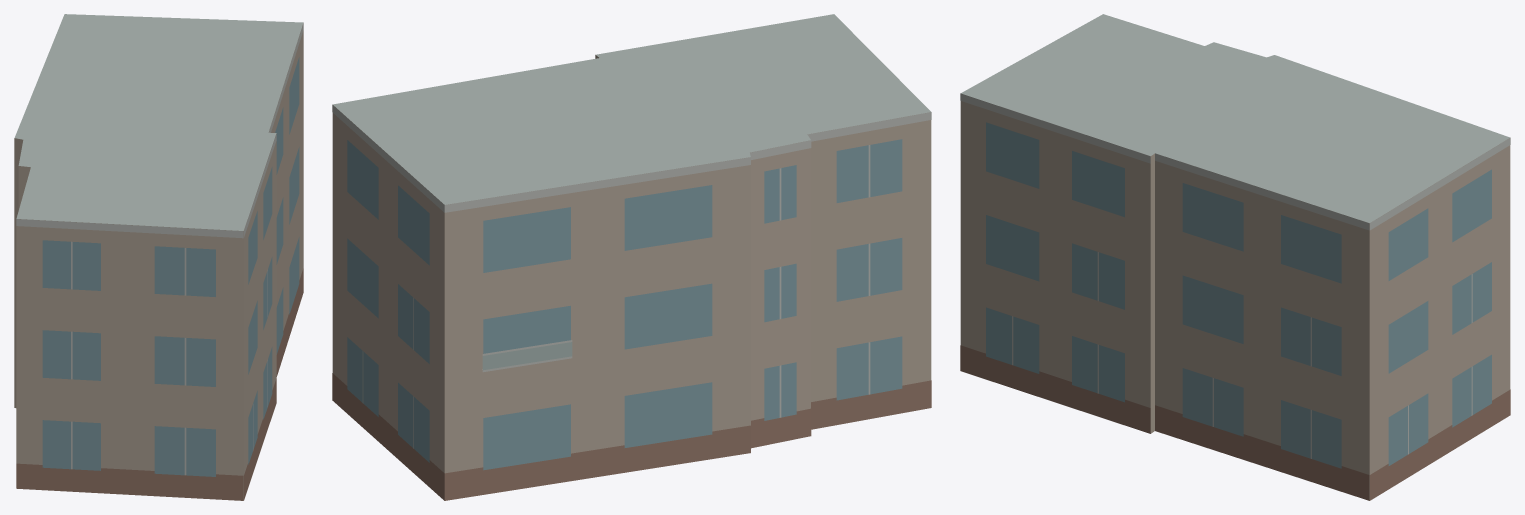
Rendered from survey-upis-32954578.glb.
The picture shows the model from 3 angles, left to right: view 1: azimuth 30°, elevation 25°; view 2: azimuth 150°, elevation 25°; view 3: azimuth 270°, elevation 25°; orthographic projection. The views are drawn at different scales.
Visible parts, largest first — view 1: survey-upis-32954578.tmp; view 2: survey-upis-32954578.tmp; view 3: survey-upis-32954578.tmp.
Part boxes in pixels (x1,y1,x2,y2): survey-upis-32954578.tmp: [14, 14, 303, 500]; survey-upis-32954578.tmp: [332, 14, 931, 500]; survey-upis-32954578.tmp: [960, 14, 1510, 500].
Bounding box in the file's own units: 14.79 × 9.15 × 16.43.
